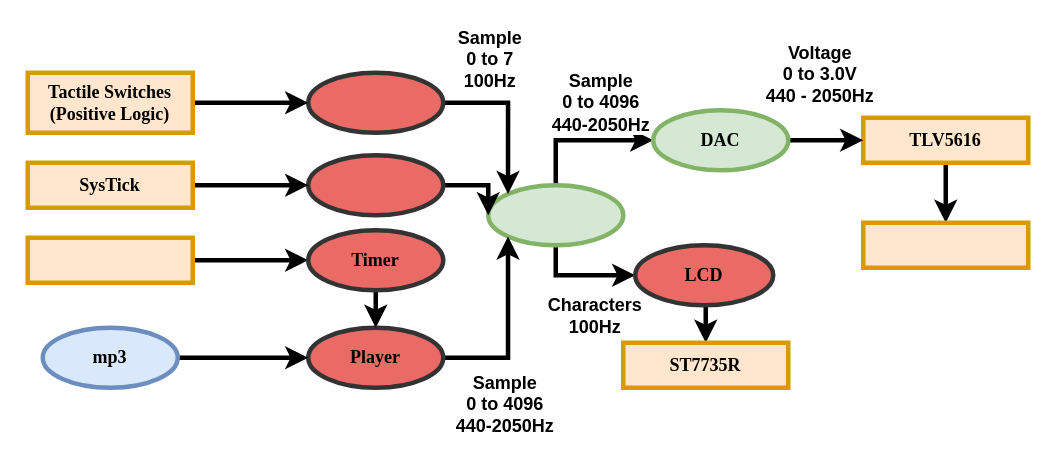
This 1056x461 diagram has some shape labels left out. The shapes that lost their labels are listed below. From the top down, each one's box as (x1, y1, x2, y2) in pixels, then its label:
(305, 70, 445, 134): Switch
(305, 152, 445, 217): Debug
(485, 182, 625, 247): Main
(25, 235, 194, 284): Timer 0-3A
(860, 220, 1030, 269): TPA731 / Speaker
